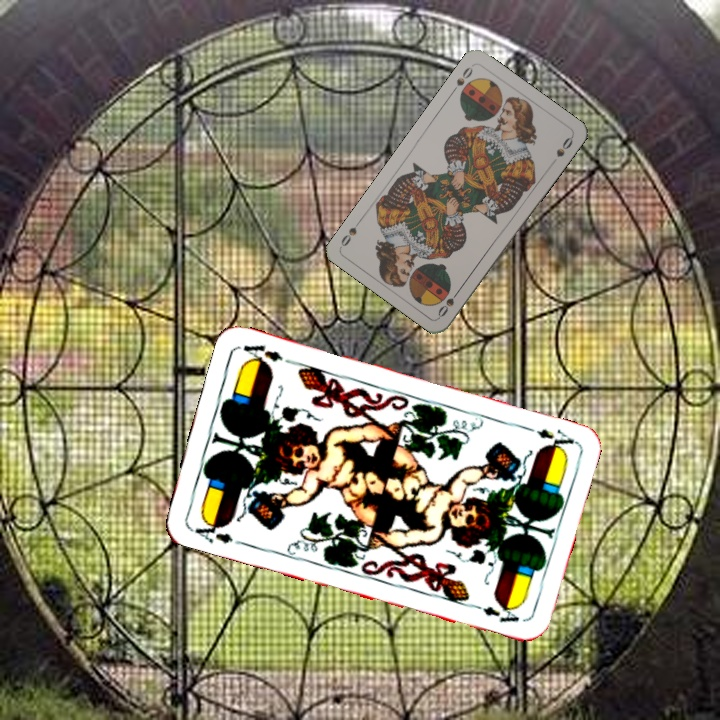EA: (187, 514, 245, 548), (519, 421, 577, 454)
SO: (433, 285, 463, 320), (447, 63, 476, 96)
